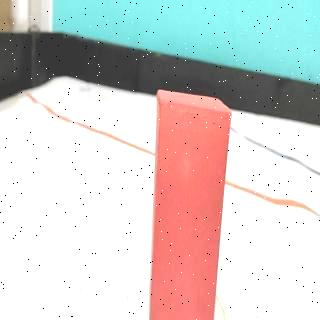redbox: (148, 88, 232, 320)
